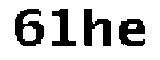1: (48, 6, 81, 49)
6: (12, 5, 44, 51)
e: (117, 18, 148, 50)
h: (83, 7, 114, 54)
